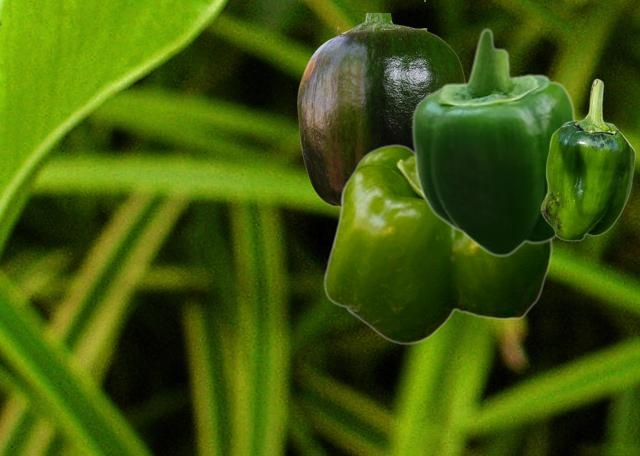bell_pepper: (323, 141, 551, 344), (411, 27, 576, 257), (297, 13, 465, 207), (540, 78, 634, 240)
